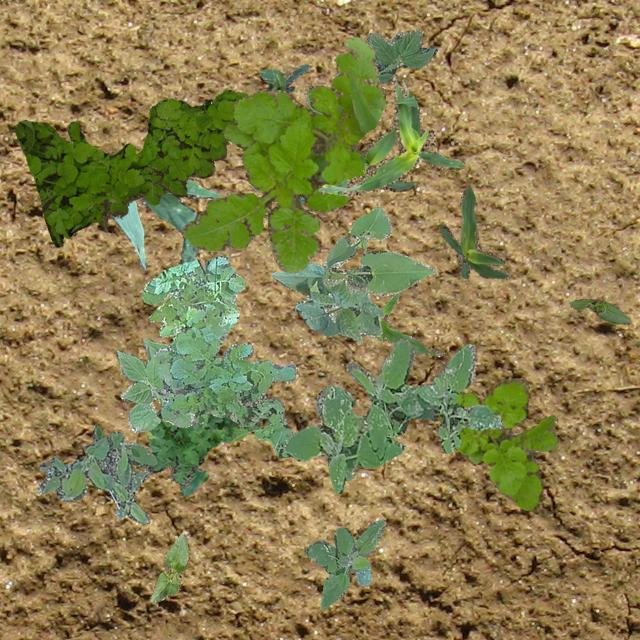crop: (270, 205, 434, 342), (318, 74, 464, 194), (304, 88, 416, 190), (115, 338, 222, 432), (110, 178, 218, 268), (438, 186, 510, 278), (376, 290, 446, 356), (366, 28, 436, 82), (148, 532, 188, 602), (568, 298, 630, 324), (258, 64, 308, 92), (298, 195, 304, 202)
weed: (180, 35, 384, 272), (13, 88, 247, 245), (282, 337, 502, 492), (140, 254, 296, 456), (453, 376, 558, 509), (36, 422, 156, 524), (146, 408, 260, 496), (304, 518, 384, 608)
